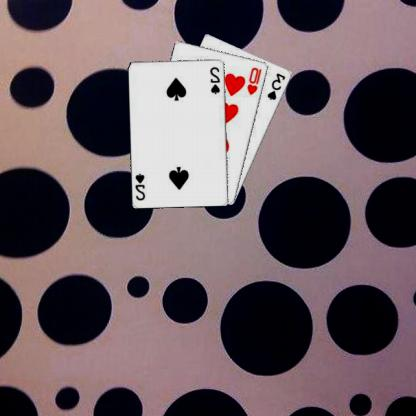10H: (247, 64, 265, 96)
2S: (209, 64, 224, 95), (135, 171, 148, 202)
3S: (266, 71, 288, 101)
